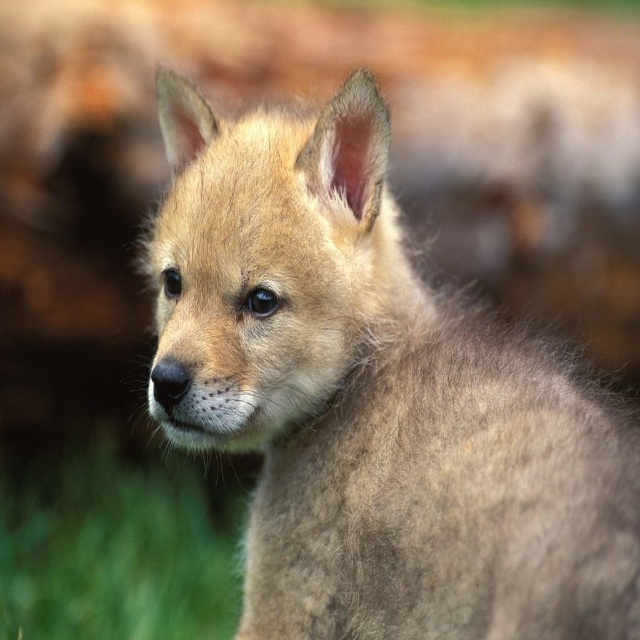Fox: (122, 58, 640, 640)
